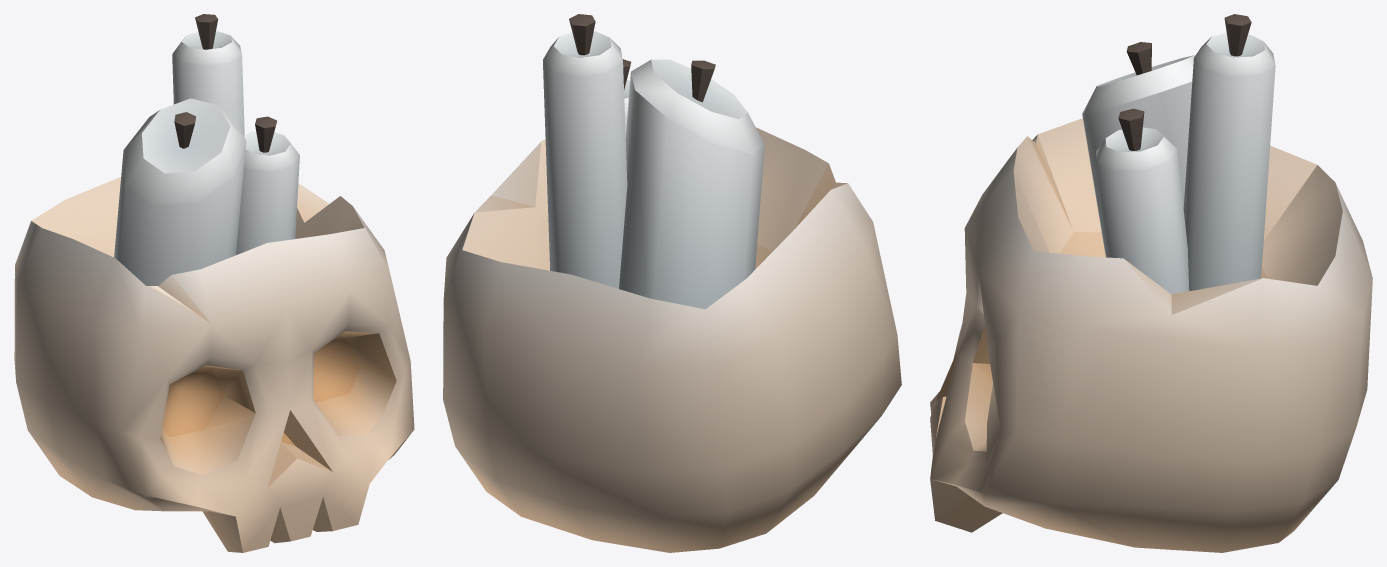
Rendered from skull_candle.obj.
3 views of the same model, side by side, from view 1: azimuth 30°, elevation 25°; view 2: azimuth 150°, elevation 25°; view 3: azimuth 270°, elevation 25° (orthographic). The views are drawn at different scales.
Parts seen in each view (by area): view 1: skull_candle_Cube.582; view 2: skull_candle_Cube.582; view 3: skull_candle_Cube.582.
Boxes of the visible parts, left/top/right/bottom form: skull_candle_Cube.582: left=14, top=14, right=414, bottom=552; skull_candle_Cube.582: left=443, top=14, right=901, bottom=552; skull_candle_Cube.582: left=930, top=14, right=1372, bottom=552.
Bounding box in the file's own units: 0.9176 × 1.19 × 0.9361.
1 material, 1 textured.
